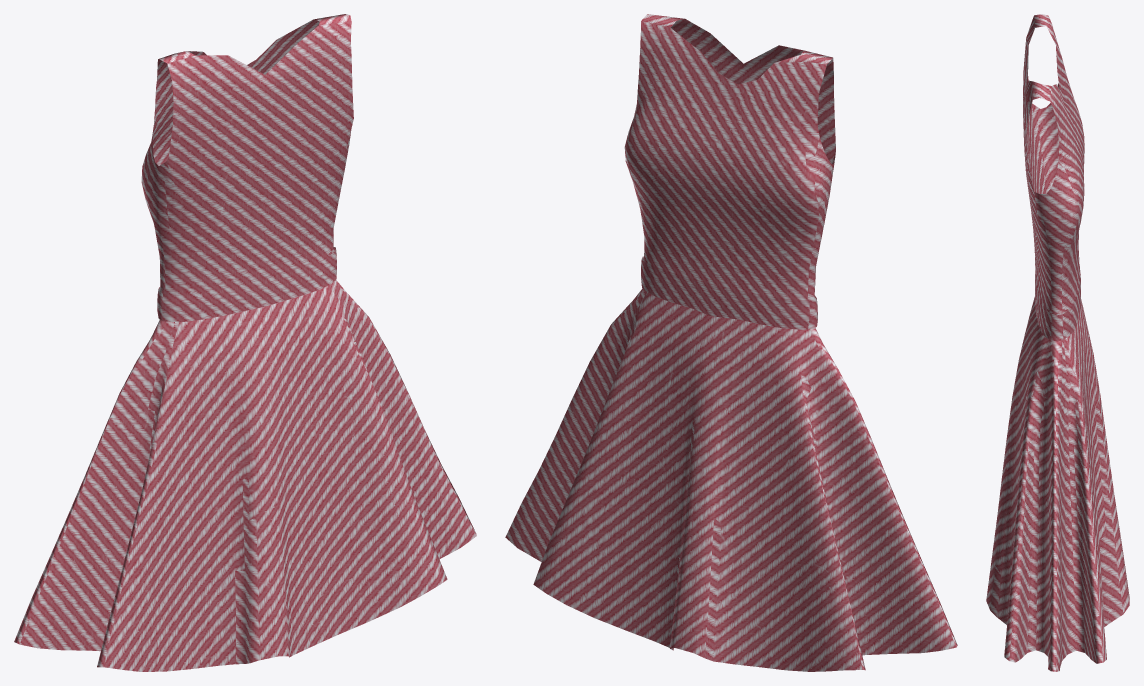
The model's file is yifu08_1.fbx.
3 renders of one model, left to right at view 1: azimuth 30°, elevation 25°; view 2: azimuth 150°, elevation 25°; view 3: azimuth 270°, elevation 25°, orthographic. The views are drawn at different scales.
Visible parts, largest first — view 1: yifu08_1; view 2: yifu08_1; view 3: yifu08_1.
Boxes of the visible parts, <box> form: yifu08_1: <box>14,14,476,671</box>; yifu08_1: <box>505,14,957,671</box>; yifu08_1: <box>986,14,1129,671</box>.
Bounding box in the file's own units: 75.43 × 95.57 × 22.14.
